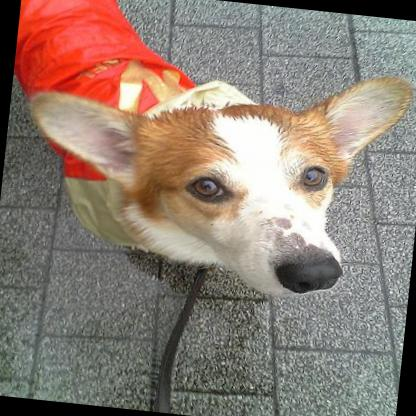Pembroke: (0, 0, 416, 313)
